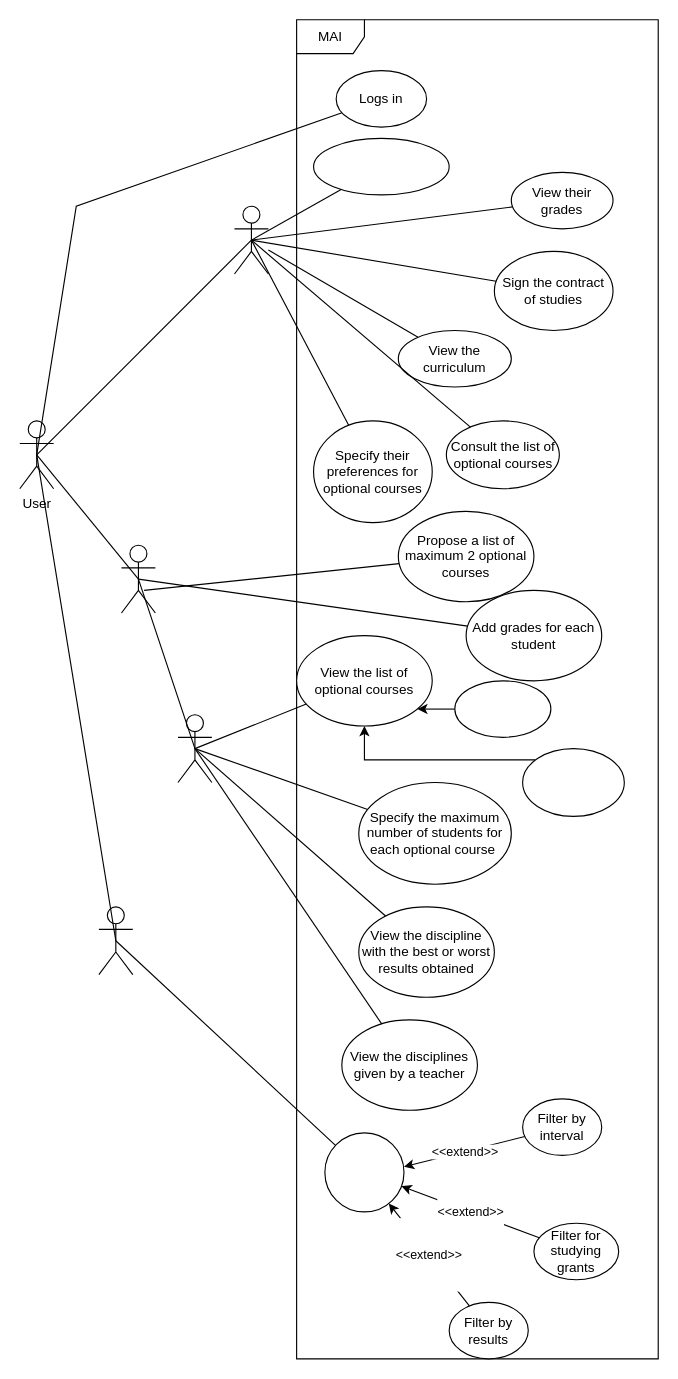
The diagram is 678 pixels wide and 1379 high, and some of its shapes have lost their labels. The centre of each missing label's shape, as x and y in pixels:
"Accept" goes at pixel 572 781.
"Administrative Staff" goes at pixel 115 940.
"Chief of the department" goes at pixel 194 748.
"Enrolll to a year of study" goes at pixel 380 166.
"Filter" goes at pixel 364 1172.
"Reject" goes at pixel 502 708.
"Student" goes at pixel 250 239.
"Teacher" goes at pixel 137 578.
